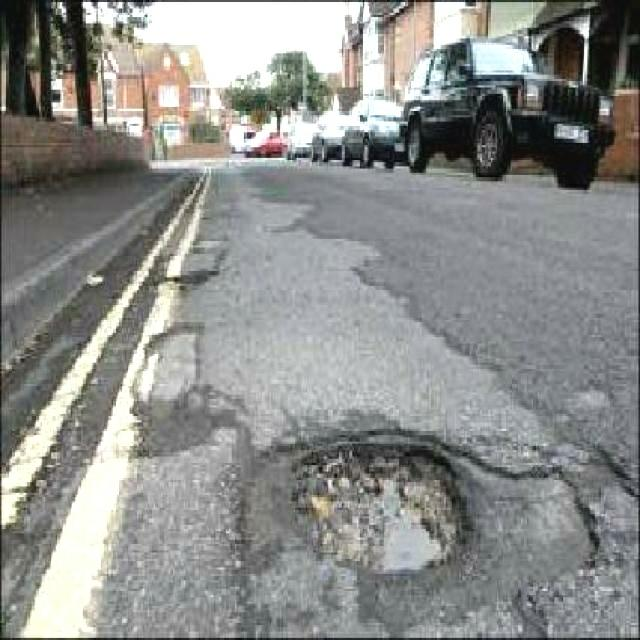Pothole: (280, 431, 473, 578)
